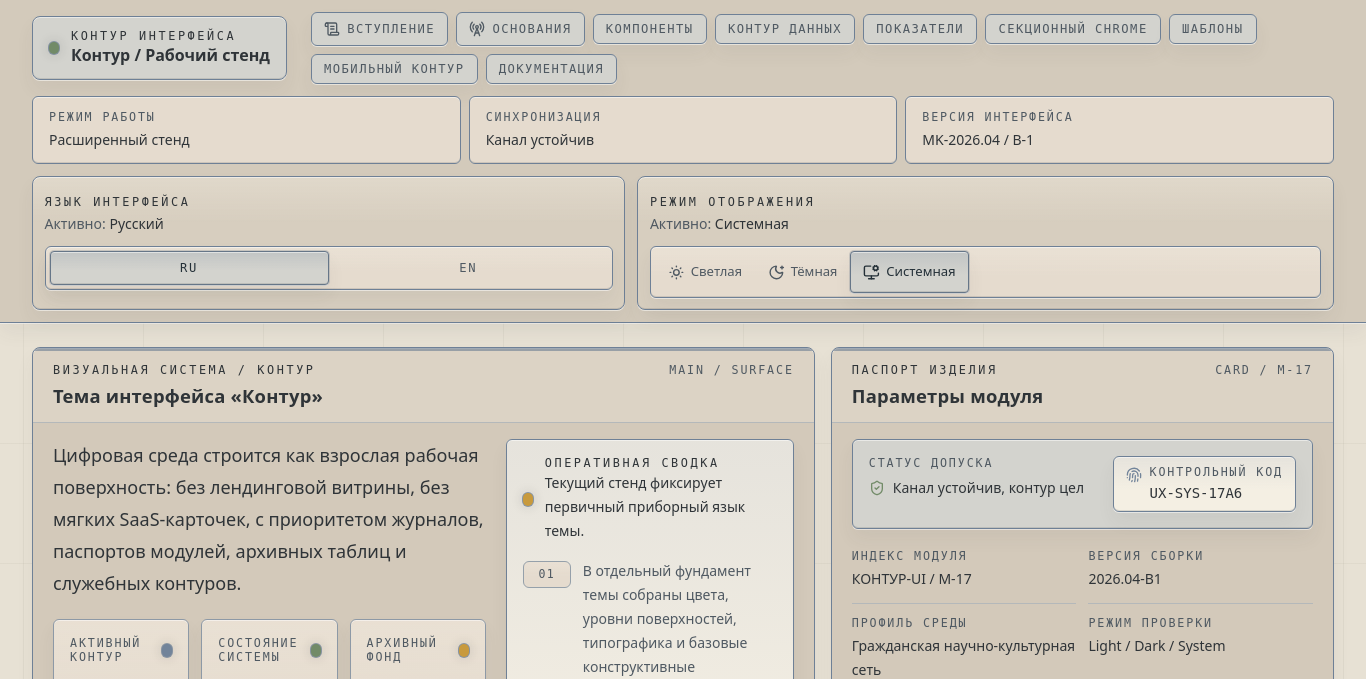
Test: theme switcher › keeps key navigation and registry surfaces stable in english
This screenshot has width=1366, height=679.
Click the button with aria-label "English" at (468, 268), box [329,251,608,286]
(page scrolled)
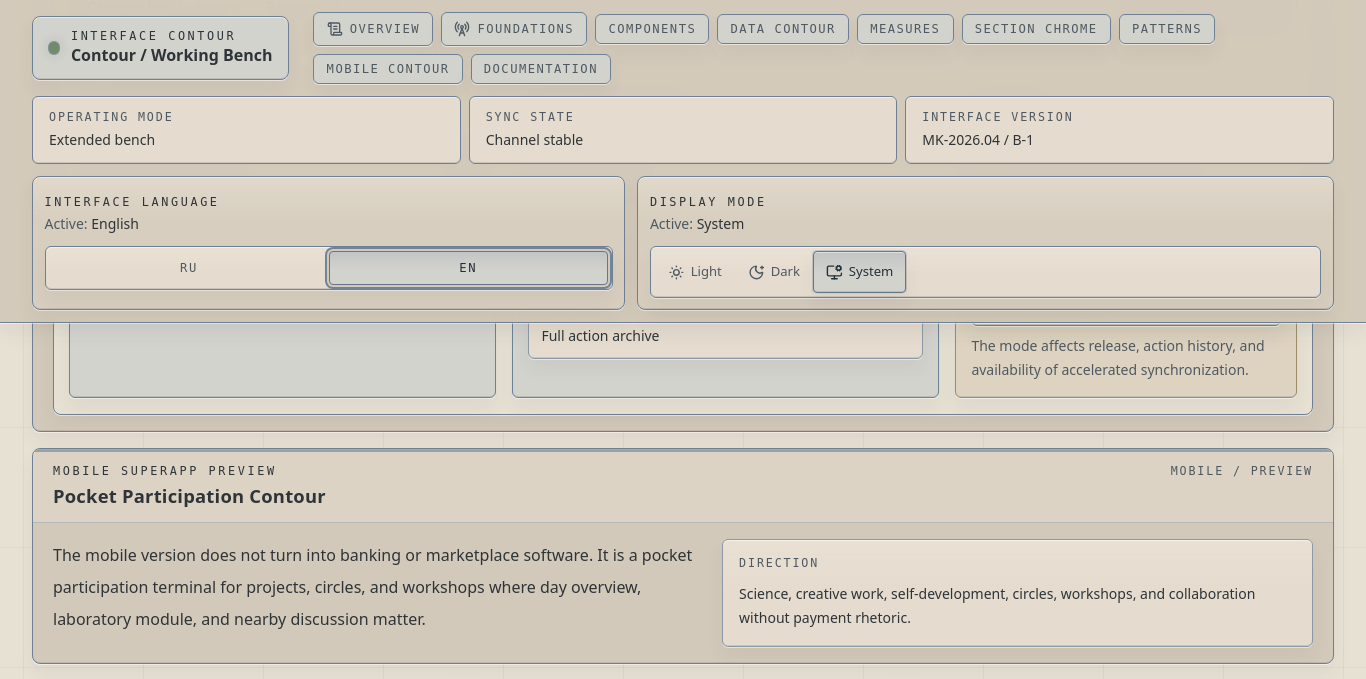
expect the navigation bar named "Primary bench sections" is shown: met, box [314,12,1334,84]
expect the heading "Pocket Participation Contour" is shown: met, box [53,482,326,510]
